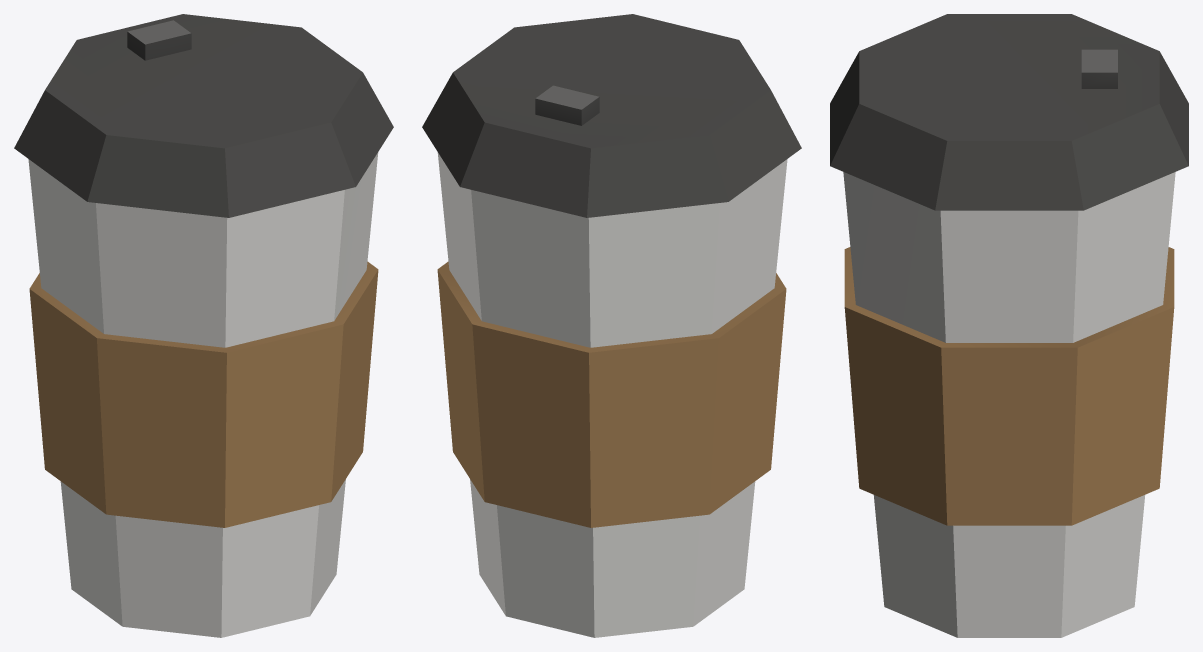
File: held_cup_01.glb
3 views of the same model, side by side, from view 1: azimuth 30°, elevation 25°; view 2: azimuth 150°, elevation 25°; view 3: azimuth 270°, elevation 25° (orthographic).
Visible parts, largest first — view 1: held_cup_01_mesh; view 2: held_cup_01_mesh; view 3: held_cup_01_mesh.
Part boxes in pixels (x1,y1,x2,y2): held_cup_01_mesh: (14,14,393,637); held_cup_01_mesh: (422,14,801,637); held_cup_01_mesh: (830,14,1188,637).
Size of the model in its own units: 0.0795 by 0.128 by 0.0795.
1 material, 1 textured.
